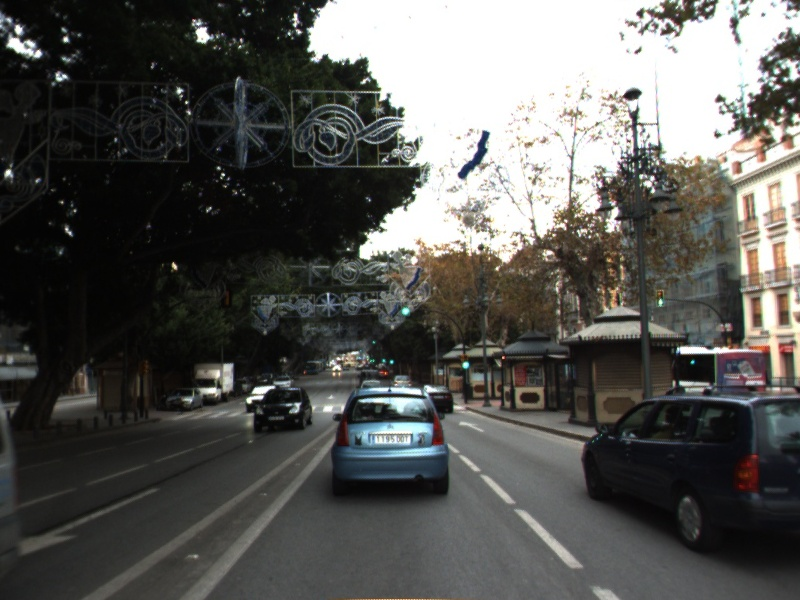STRAIGHT: (457, 419, 486, 434)
